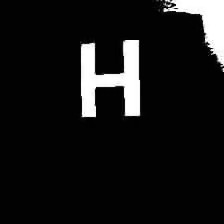LTR_H: (73, 34, 150, 124)
